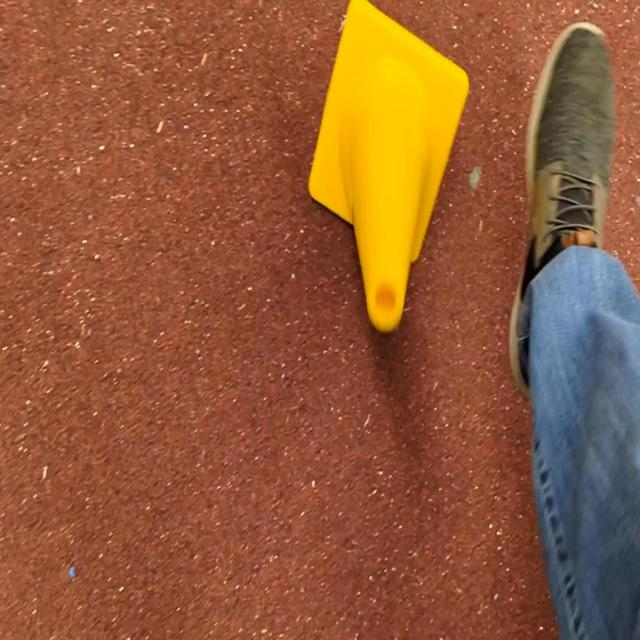frc_cone: (306, 0, 471, 348)
